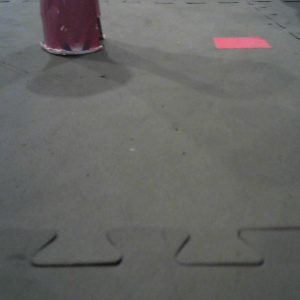middle: (37, 1, 107, 57)
